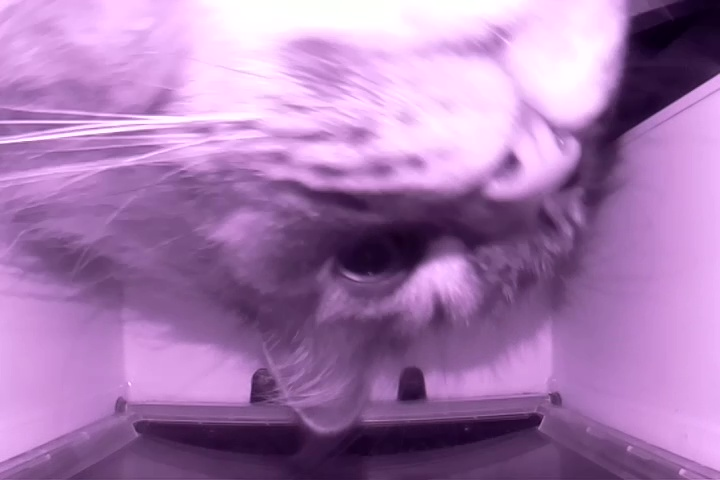Snout: (351, 1, 596, 201)
